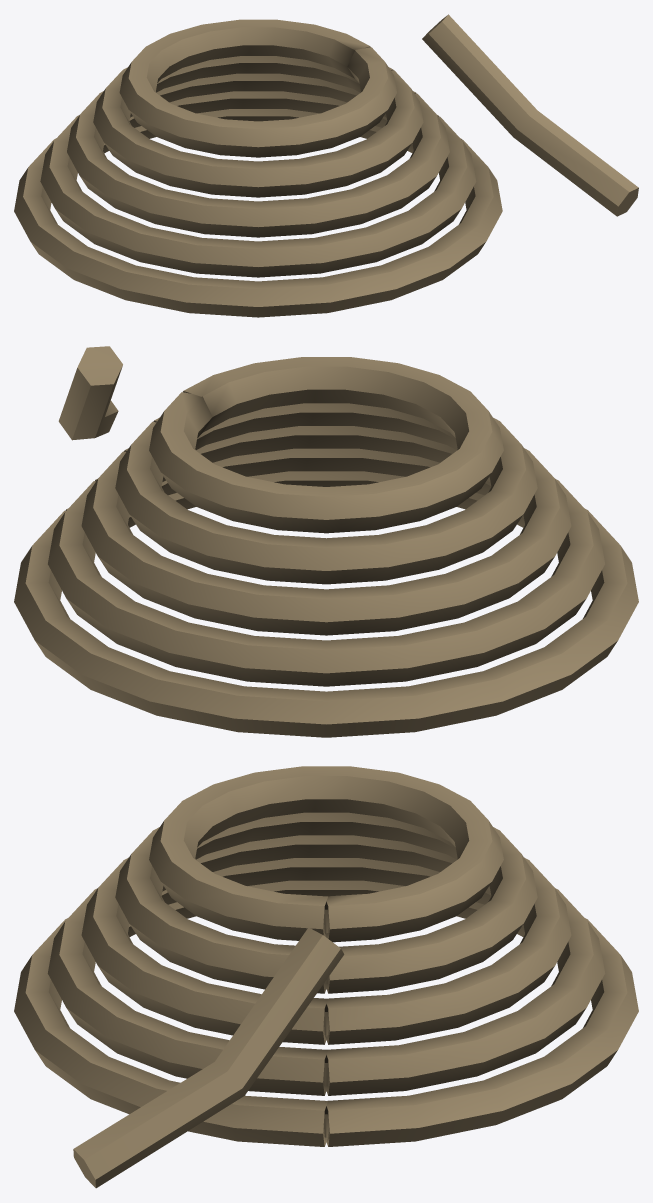
File: ropecoil.glb
3 renders of one model, top to bottom at view 1: azimuth 30°, elevation 25°; view 2: azimuth 150°, elevation 25°; view 3: azimuth 270°, elevation 25°, orthographic. The views are drawn at different scales.
Parts seen in each view (by area): view 1: boat_rope; view 2: boat_rope; view 3: boat_rope.
Part boxes in pixels (<box>): boat_rope: <box>14,14,638,317</box>; boat_rope: <box>14,346,638,737</box>; boat_rope: <box>14,766,638,1188</box>.
Bounding box in the file's own units: 0.7614 × 0.231 × 0.6462.
